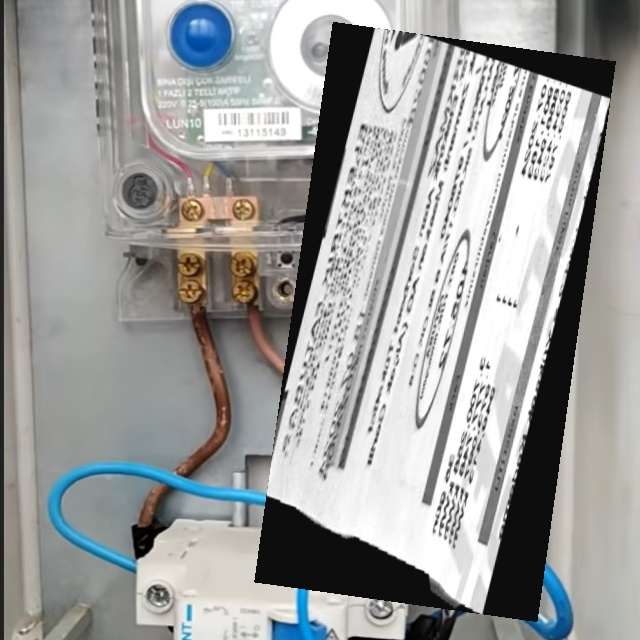electricity-bill: (253, 22, 615, 622)
